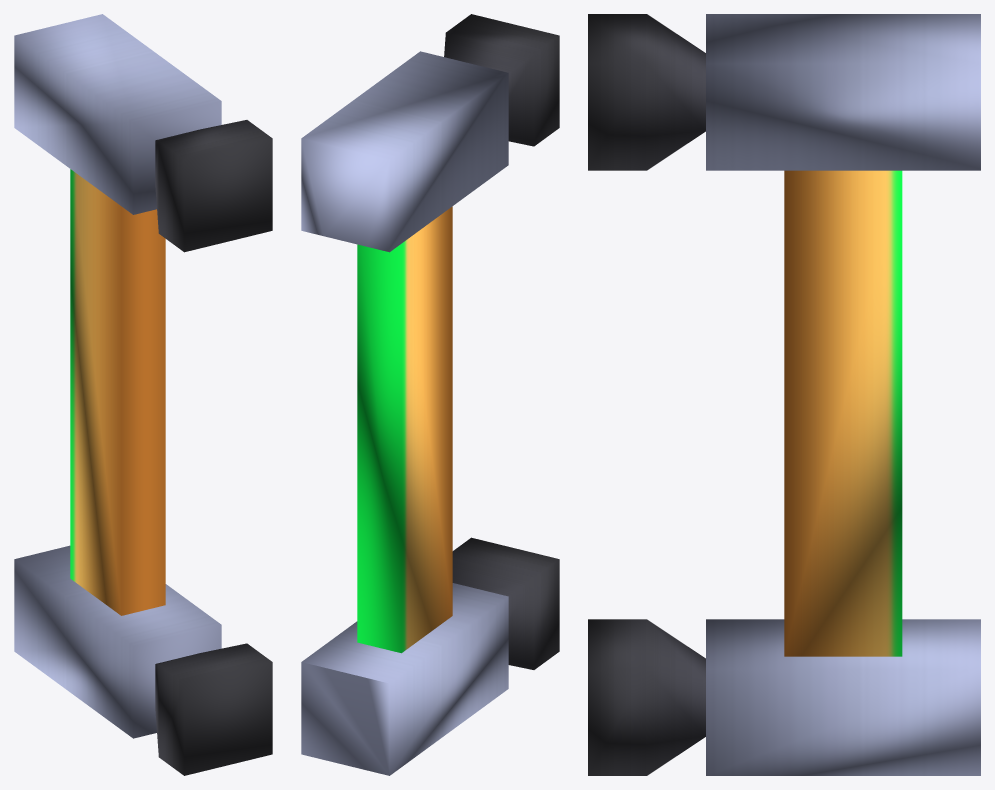
The model's file is structure-yellow-short.obj.
3 renders of one model, left to right at view 1: azimuth 30°, elevation 25°; view 2: azimuth 150°, elevation 25°; view 3: azimuth 270°, elevation 25°, orthographic. The views are drawn at different scales.
Visible parts, largest first — view 1: structure-yellow-short; view 2: structure-yellow-short; view 3: structure-yellow-short.
Boxes of the visible parts, x1,y1,x2,y2 form: structure-yellow-short: [14, 14, 272, 775]; structure-yellow-short: [301, 14, 559, 775]; structure-yellow-short: [588, 14, 980, 775].
Bounding box in the file's own units: 0.15 × 1 × 0.5.
